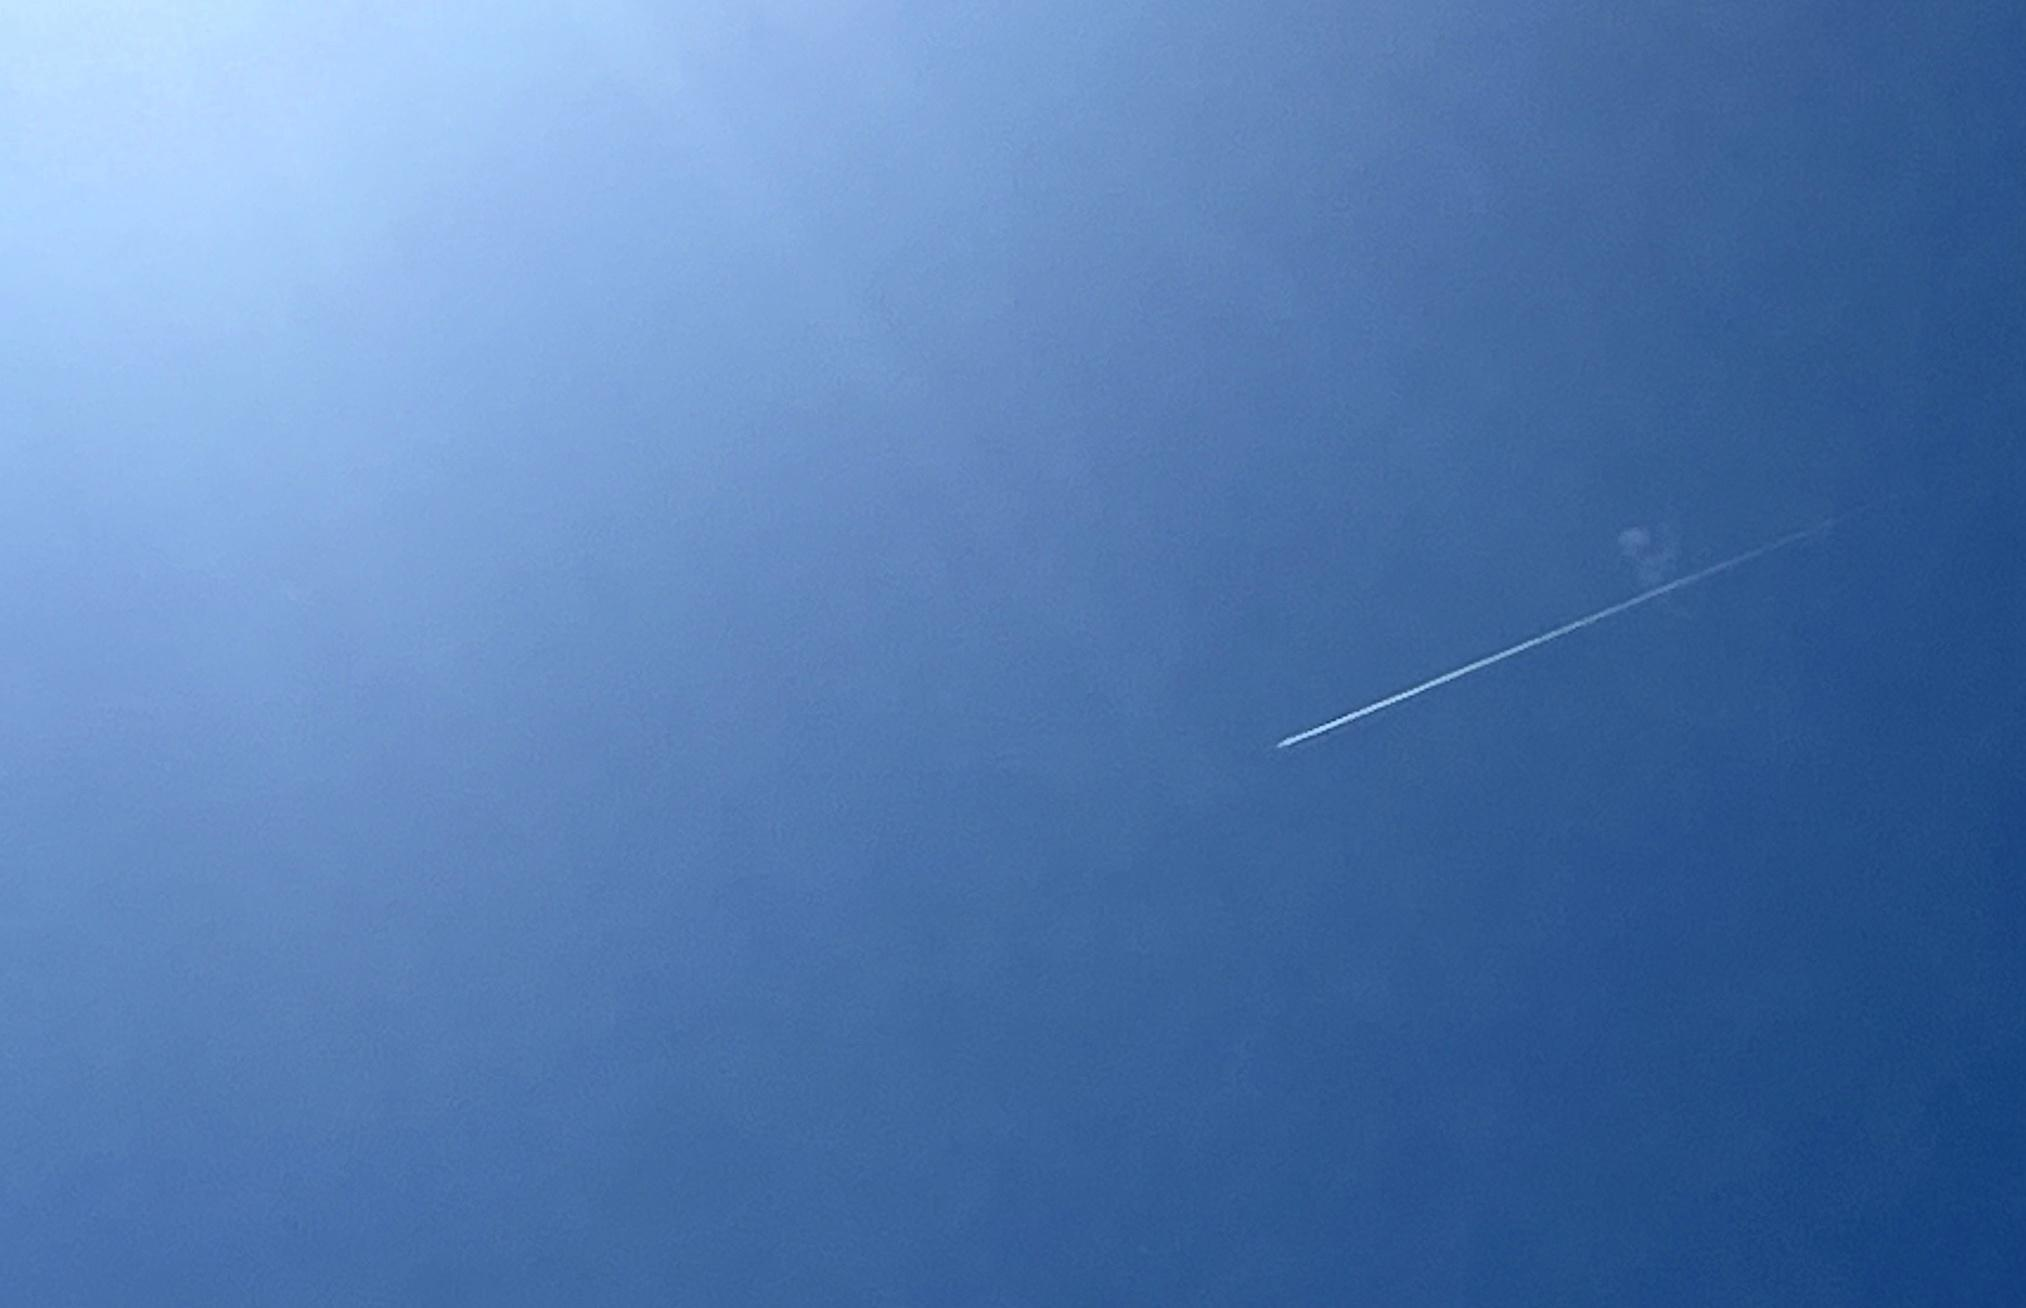Plane: (1263, 672, 1410, 799)
